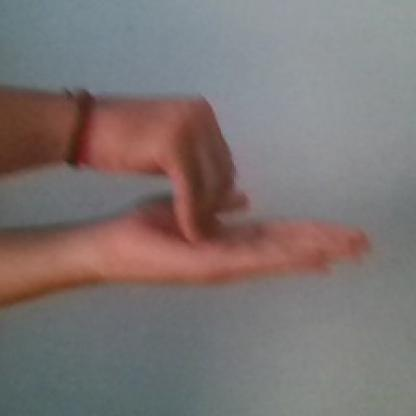Z: (82, 80, 379, 282)
